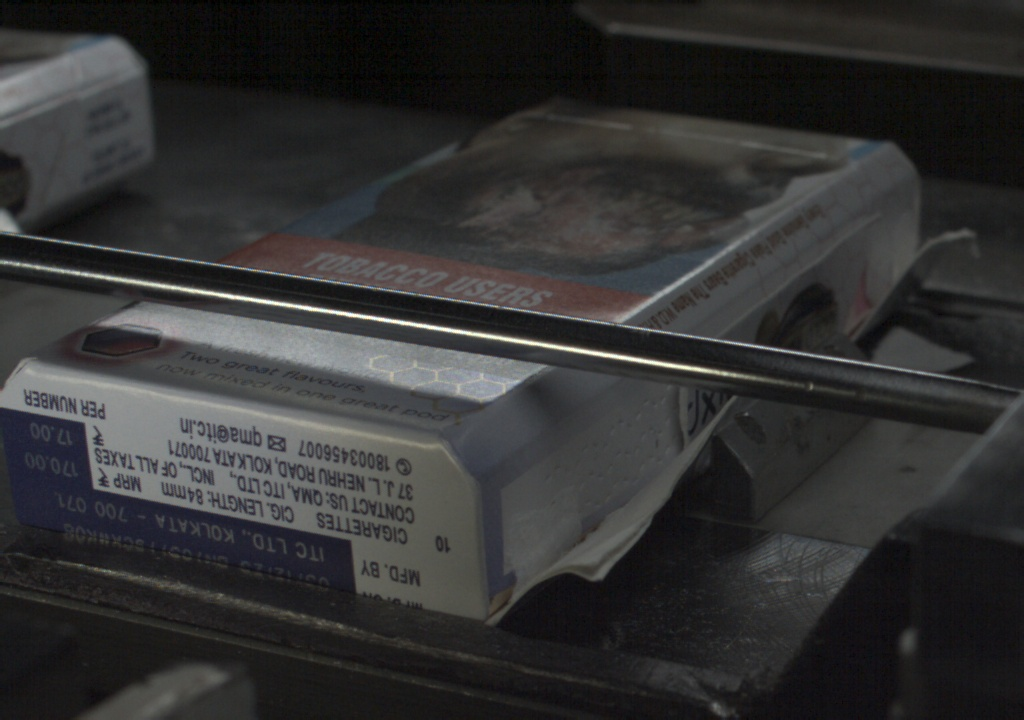g_bottom: (1, 366, 485, 620)
g_label: (1, 485, 354, 589)
ng_lmiter: (489, 446, 604, 562), (605, 386, 696, 477), (712, 273, 790, 335), (788, 215, 862, 269)
ng_miter: (868, 205, 970, 287)
price: (1, 417, 92, 486)
